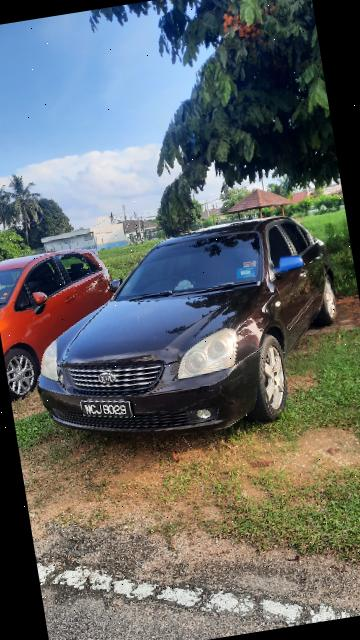License_Plate: (69, 380, 142, 436)
car: (8, 201, 360, 462)
